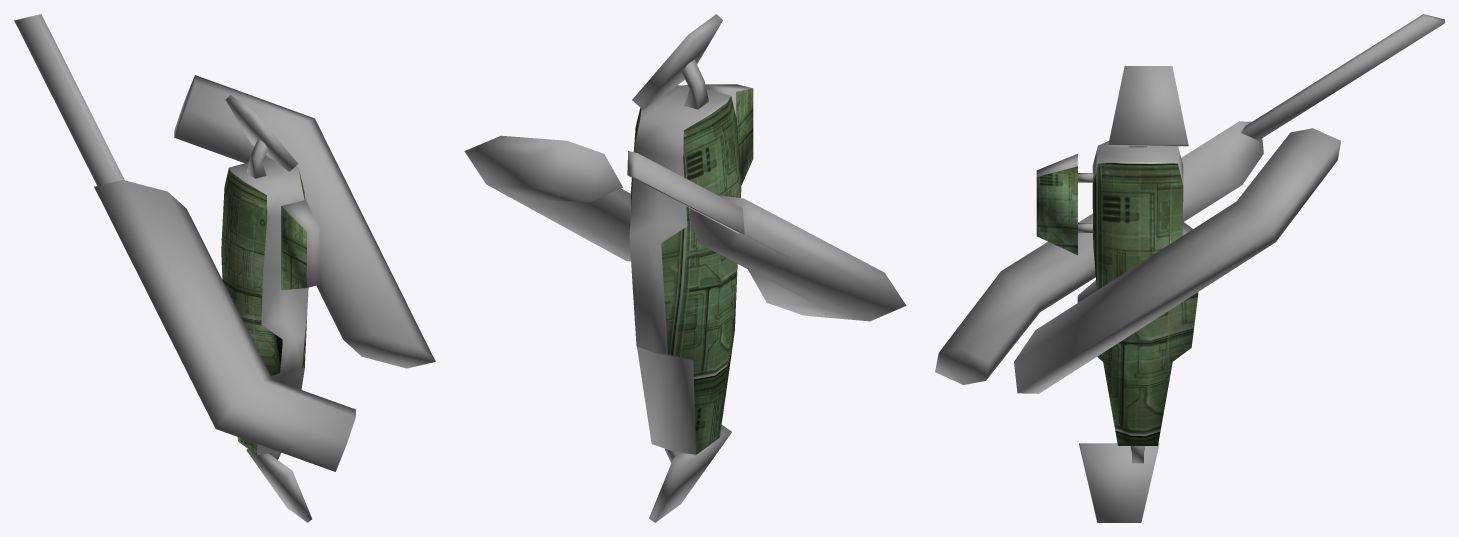
File: MIsensorplat.dae
3 views of the same model, side by side, from view 1: azimuth 30°, elevation 25°; view 2: azimuth 150°, elevation 25°; view 3: azimuth 270°, elevation 25° (orthographic). The views are drawn at different scales.
Parts seen in each view (by area): view 1: Cube.001; view 2: Cube.001; view 3: Cube.001.
Boxes of the visible parts, x1,y1,x2,y2 form: Cube.001: (14, 14, 435, 522); Cube.001: (464, 14, 906, 522); Cube.001: (935, 14, 1444, 522).
Bounding box in the file's own units: 6.17 × 11.01 × 11.37.
